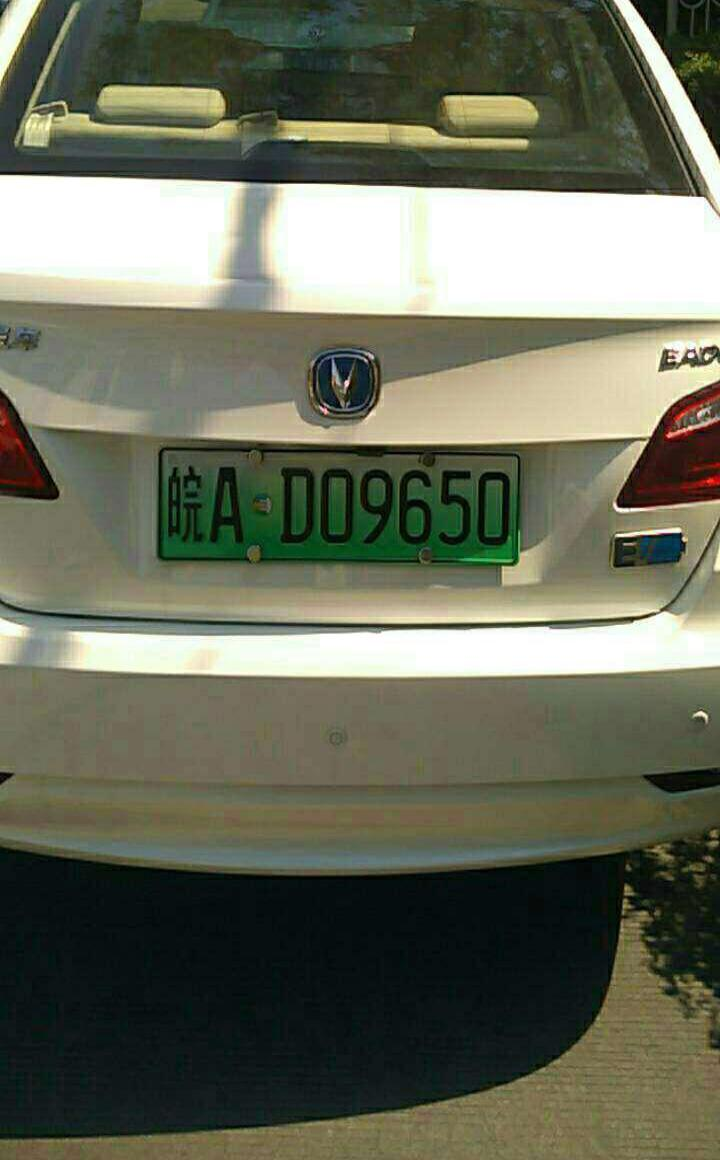car_id: (157, 448, 515, 562)
